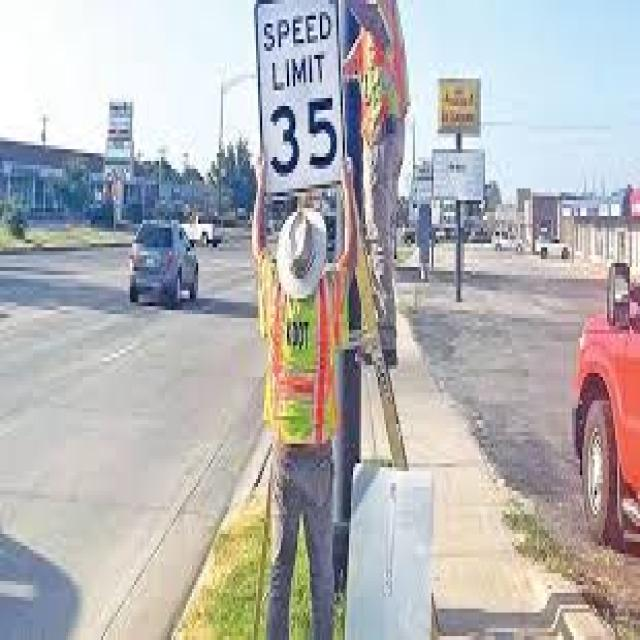speedLimit35: (252, 10, 347, 186)
